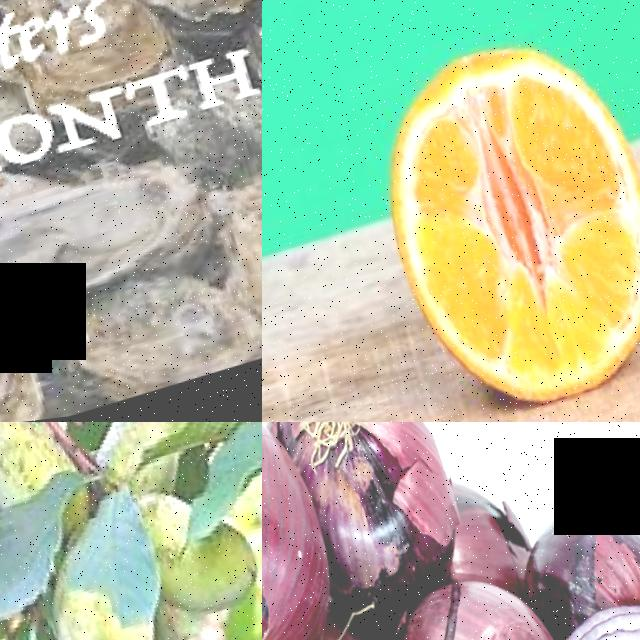onion: (265, 422, 473, 627), (262, 422, 344, 640), (379, 577, 568, 640)
orange: (332, 17, 640, 422)
oysters: (0, 139, 197, 365), (68, 0, 262, 55)
